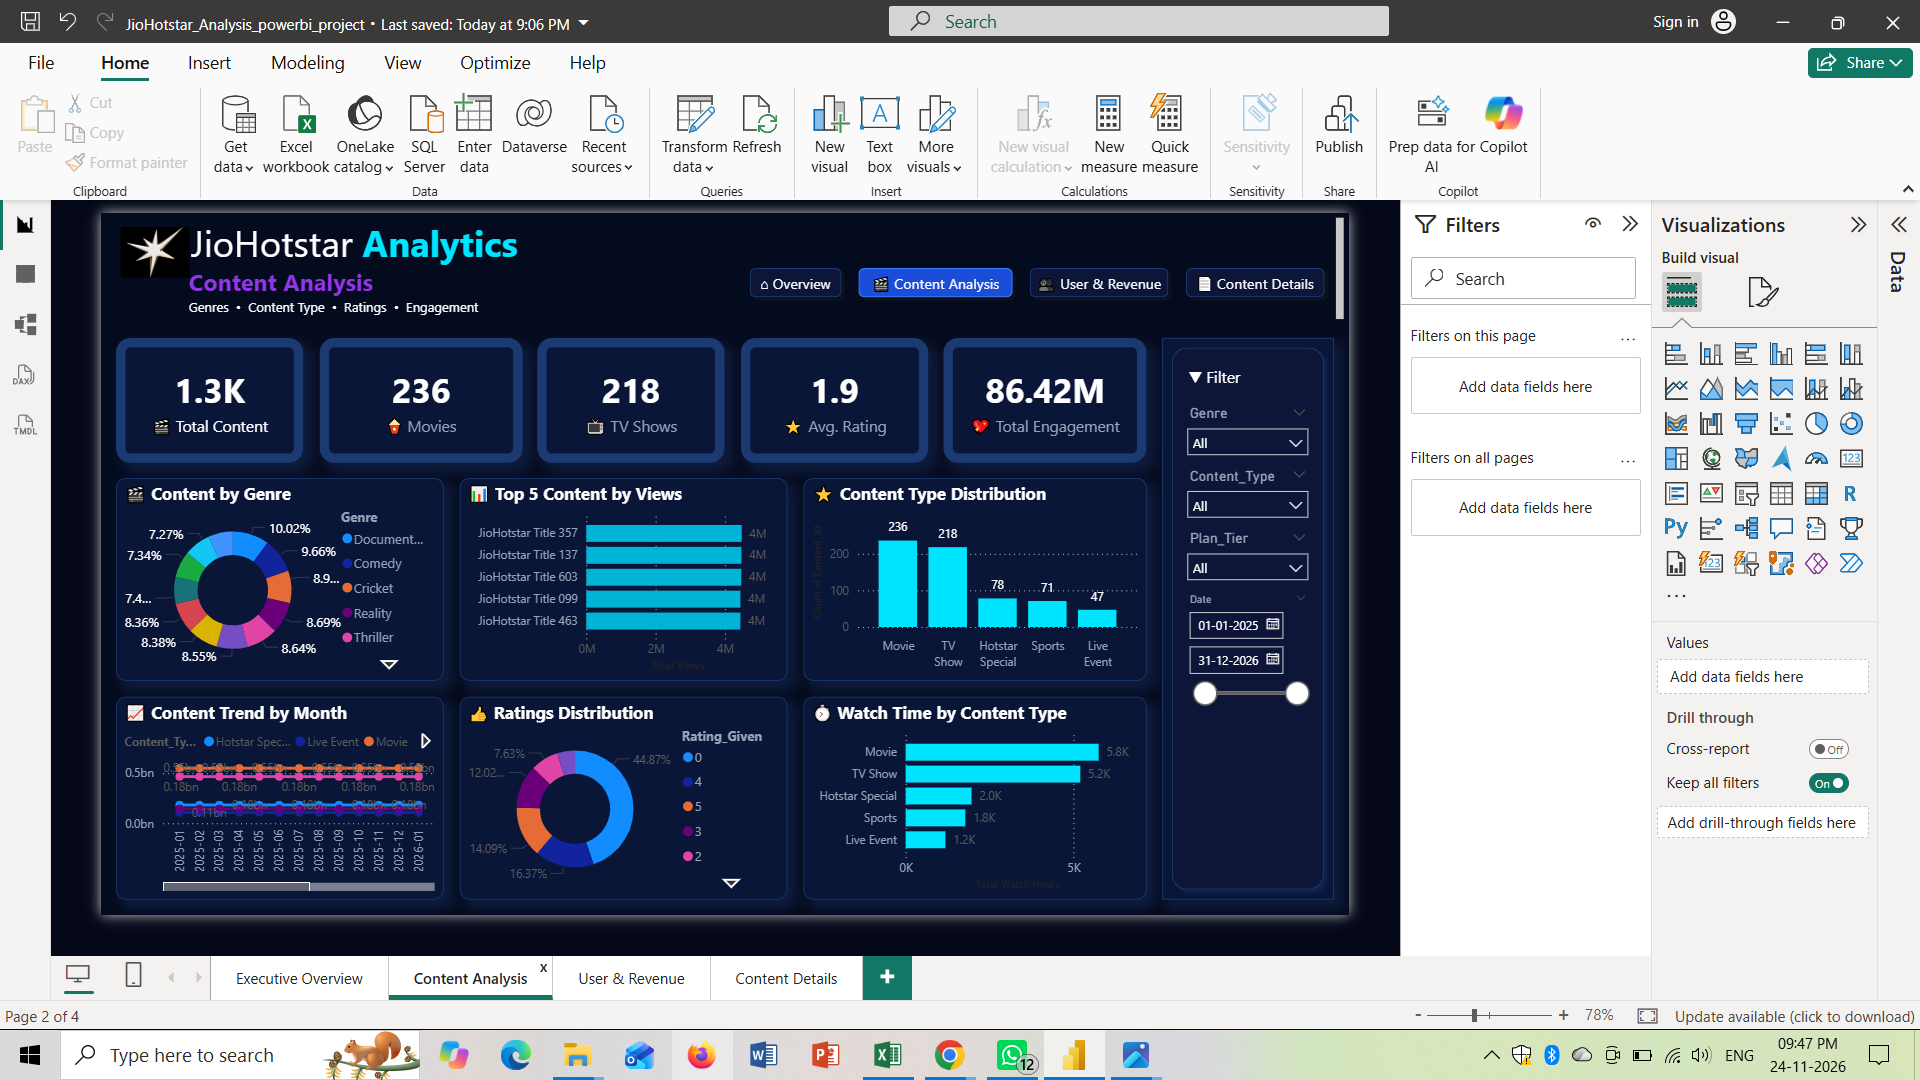

The dashboard page shown, as its layout file describes it:
{"tool":"powerbi","page":{"name":"Content Analysis","canvas":[1280,720],"ordinal":1},"visuals":[{"type":"shape","box":[1088,128,176,576],"z":0},{"type":"card","fields":{"Values":["Sum(Measures(2).Total Content)"]},"box":[16,128,192,128],"z":1000},{"type":"card","fields":{"Values":["Measures(2).Total Movies"]},"box":[224,128,208,128],"z":2000},{"type":"card","fields":{"Values":["Measures(2).Total TV Shows"]},"box":[448,128,192,128],"z":3000},{"type":"card","fields":{"Values":["Measures(2).Avg Rating"]},"box":[656,128,192,128],"z":4000},{"type":"textbox","box":[16,0,1264,128],"z":5000},{"type":"image","box":[16,0,80,80],"z":6000},{"type":"textbox","box":[1104,144,144,48],"z":7000},{"type":"slicer","fields":{"Values":["Content.Genre"]},"box":[1104,192,144,64],"z":8000},{"type":"slicer","fields":{"Values":["Content.Content_Type"]},"box":[1104,256,144,80],"z":9000},{"type":"slicer","fields":{"Values":["Plans.Plan_Tier"]},"box":[1104,320,144,64],"z":10000},{"type":"slicer","fields":{"Values":["Date.Date"]},"box":[1104,384,144,144],"z":11000},{"type":"donutChart","title":"🎬 Content by Genre","fields":{"Y":["Measures(2).Total Views"],"Category":["Content.Genre"]},"box":[16,272,336,208],"z":12000},{"type":"clusteredBarChart","title":"📊 Top 5 Content by Views","fields":{"Category":["Content.Content_Name"],"Y":["Measures(2).Total Views"]},"box":[368,272,336,208],"z":13000},{"type":"actionButton","box":[656,48,112,48],"z":14000},{"type":"actionButton","box":[768,48,176,48],"z":15000},{"type":"actionButton","box":[944,48,160,48],"z":16000},{"type":"actionButton","box":[1104,48,160,48],"z":17000},{"type":"card","fields":{"Values":["Measures(2).Total Engagement"]},"box":[864,128,208,128],"z":18000},{"type":"clusteredColumnChart","title":"⭐ Content Type Distribution","fields":{"Category":["Content.Content_Type"],"Y":["Count(Content.Content_ID)"]},"box":[720,272,352,208],"z":19000},{"type":"lineChart","title":"📈 Content Trend by Month","fields":{"Category":["Date.Year Month"],"Y":["Measures(2).Total Views"],"Series":["Content.Content_Type"]},"box":[16,496,336,208],"z":20000},{"type":"donutChart","title":"👍 Ratings Distribution","fields":{"Category":["Viewing_Sessions.Rating_Given"],"Y":["CountNonNull(Viewing_Sessions.Rating_Given)"]},"box":[368,496,336,208],"z":21000},{"type":"clusteredBarChart","title":"⏱️ Watch Time by Content Type","fields":{"Category":["Content.Content_Type"],"Y":["Viewing_Sessions.Total Watch Hours"]},"box":[720,496,352,208],"z":22000}]}

Visuals, with their boxes on the page's 1280x720 design canvas (x1, y1, x2, y2). These are canvas units, not pixel positions in the 1920x1080 screenshot, which may show the page scaled, cropped or inside an application window:
shape: l=1088, t=128, r=1264, b=704
card - Sum(Measures(2).Total Content): l=16, t=128, r=208, b=256
card - Measures(2).Total Movies: l=224, t=128, r=432, b=256
card - Measures(2).Total TV Shows: l=448, t=128, r=640, b=256
card - Measures(2).Avg Rating: l=656, t=128, r=848, b=256
textbox: l=16, t=0, r=1280, b=128
image: l=16, t=0, r=96, b=80
textbox: l=1104, t=144, r=1248, b=192
slicer - Content.Genre: l=1104, t=192, r=1248, b=256
slicer - Content.Content_Type: l=1104, t=256, r=1248, b=336
slicer - Plans.Plan_Tier: l=1104, t=320, r=1248, b=384
slicer - Date.Date: l=1104, t=384, r=1248, b=528
"🎬 Content by Genre" donutChart: l=16, t=272, r=352, b=480
"📊 Top 5 Content by Views" clusteredBarChart: l=368, t=272, r=704, b=480
actionButton: l=656, t=48, r=768, b=96
actionButton: l=768, t=48, r=944, b=96
actionButton: l=944, t=48, r=1104, b=96
actionButton: l=1104, t=48, r=1264, b=96
card - Measures(2).Total Engagement: l=864, t=128, r=1072, b=256
"⭐ Content Type Distribution" clusteredColumnChart: l=720, t=272, r=1072, b=480
"📈 Content Trend by Month" lineChart: l=16, t=496, r=352, b=704
"👍 Ratings Distribution" donutChart: l=368, t=496, r=704, b=704
"⏱️ Watch Time by Content Type" clusteredBarChart: l=720, t=496, r=1072, b=704
